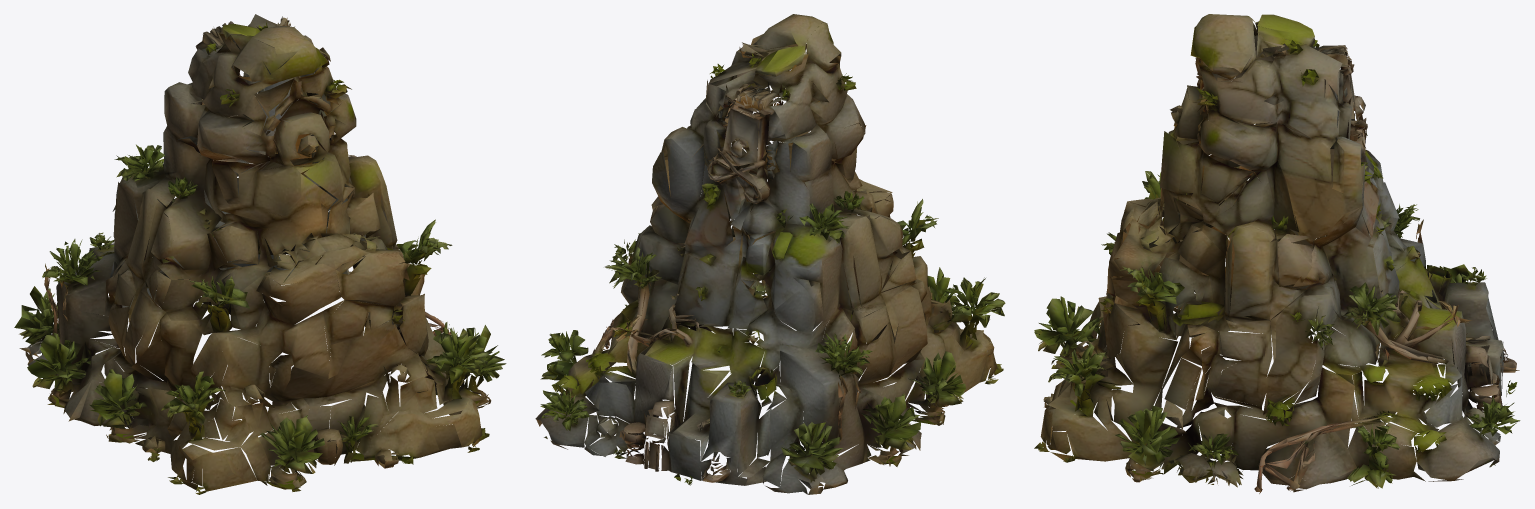
The model's file is epi_mist_ridge_rock_outcrop_LOD1.glb.
3 renders of one model, left to right at view 1: azimuth 30°, elevation 25°; view 2: azimuth 150°, elevation 25°; view 3: azimuth 270°, elevation 25°, orthographic. The views are drawn at different scales.
Parts seen in each view (by area): view 1: tripo_node_afe57d34-b2b2-4e13-acbc-345c426728cd; view 2: tripo_node_afe57d34-b2b2-4e13-acbc-345c426728cd; view 3: tripo_node_afe57d34-b2b2-4e13-acbc-345c426728cd.
Boxes of the visible parts, <box> form: tripo_node_afe57d34-b2b2-4e13-acbc-345c426728cd: <box>14,14,506,494</box>; tripo_node_afe57d34-b2b2-4e13-acbc-345c426728cd: <box>535,14,1005,494</box>; tripo_node_afe57d34-b2b2-4e13-acbc-345c426728cd: <box>1034,14,1520,493</box>.
Bounding box in the file's own units: 0.9246 × 0.8848 × 1.
1 material, 1 textured.
